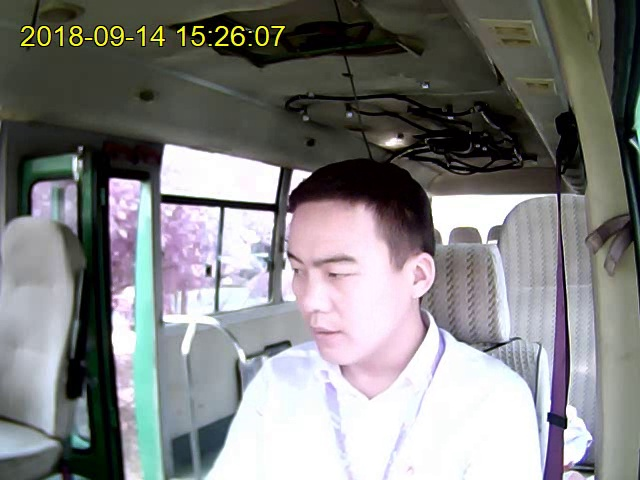closed_mouth: (310, 323, 346, 343)
open_eye: (324, 269, 356, 283)
